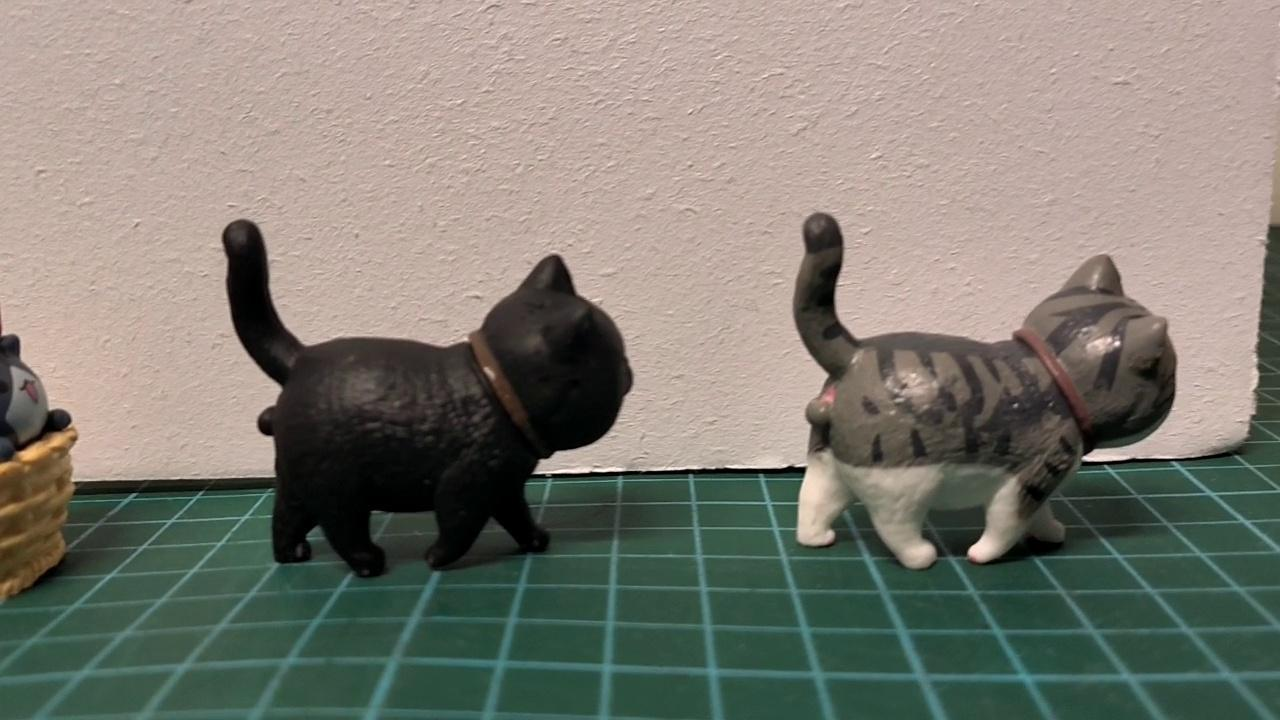pet: (216, 212, 637, 583), (776, 206, 1182, 576)
